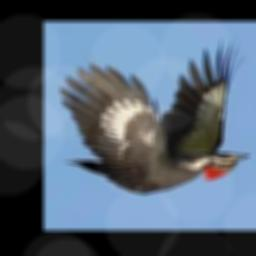Woodpecker: (60, 38, 249, 195)
